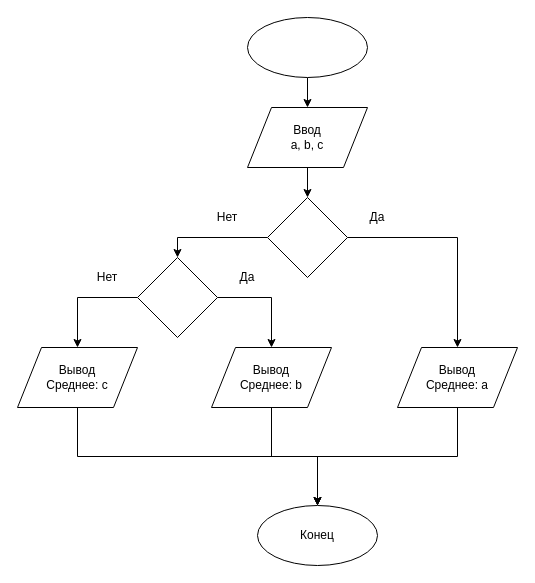
Image size: 535x583. Some labels were removed from this diagram. Here are the shapes that lost their labels. From the top down, the centre of each, then its label:
the point at 307,47: Начало
the point at 307,237: b<a<c или с<a<b
the point at 177,297: a<b<c или с<b<a
